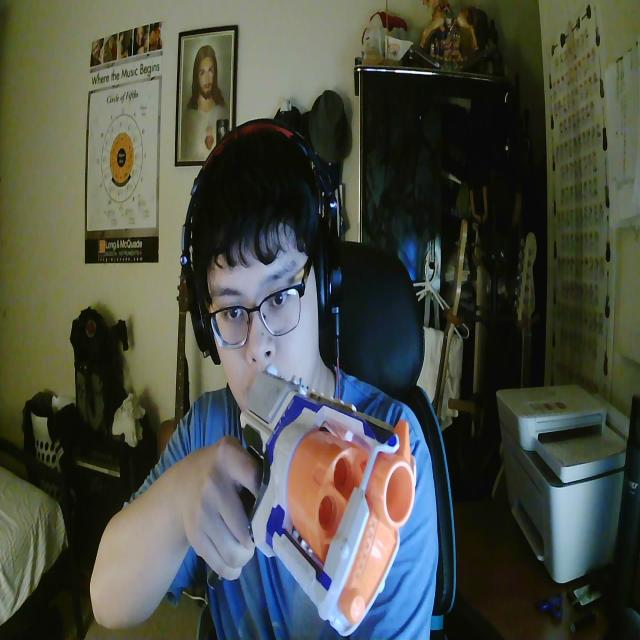Nerf_Blaster: (235, 362, 418, 637)
